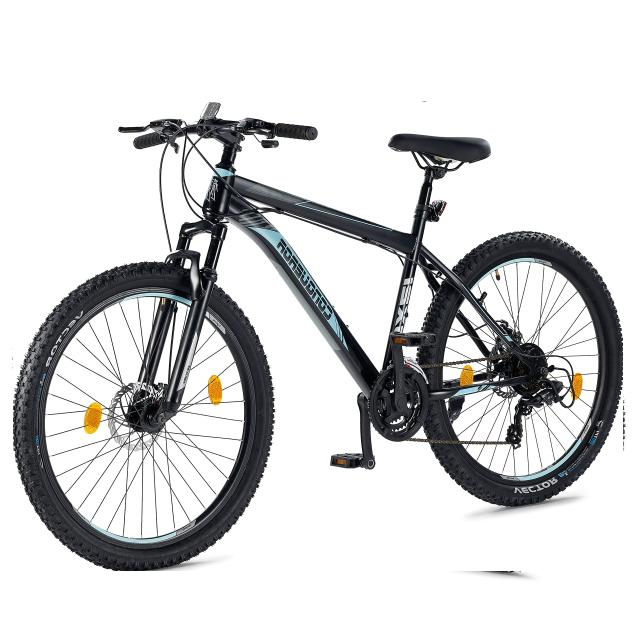bicycle: (14, 103, 623, 571)
